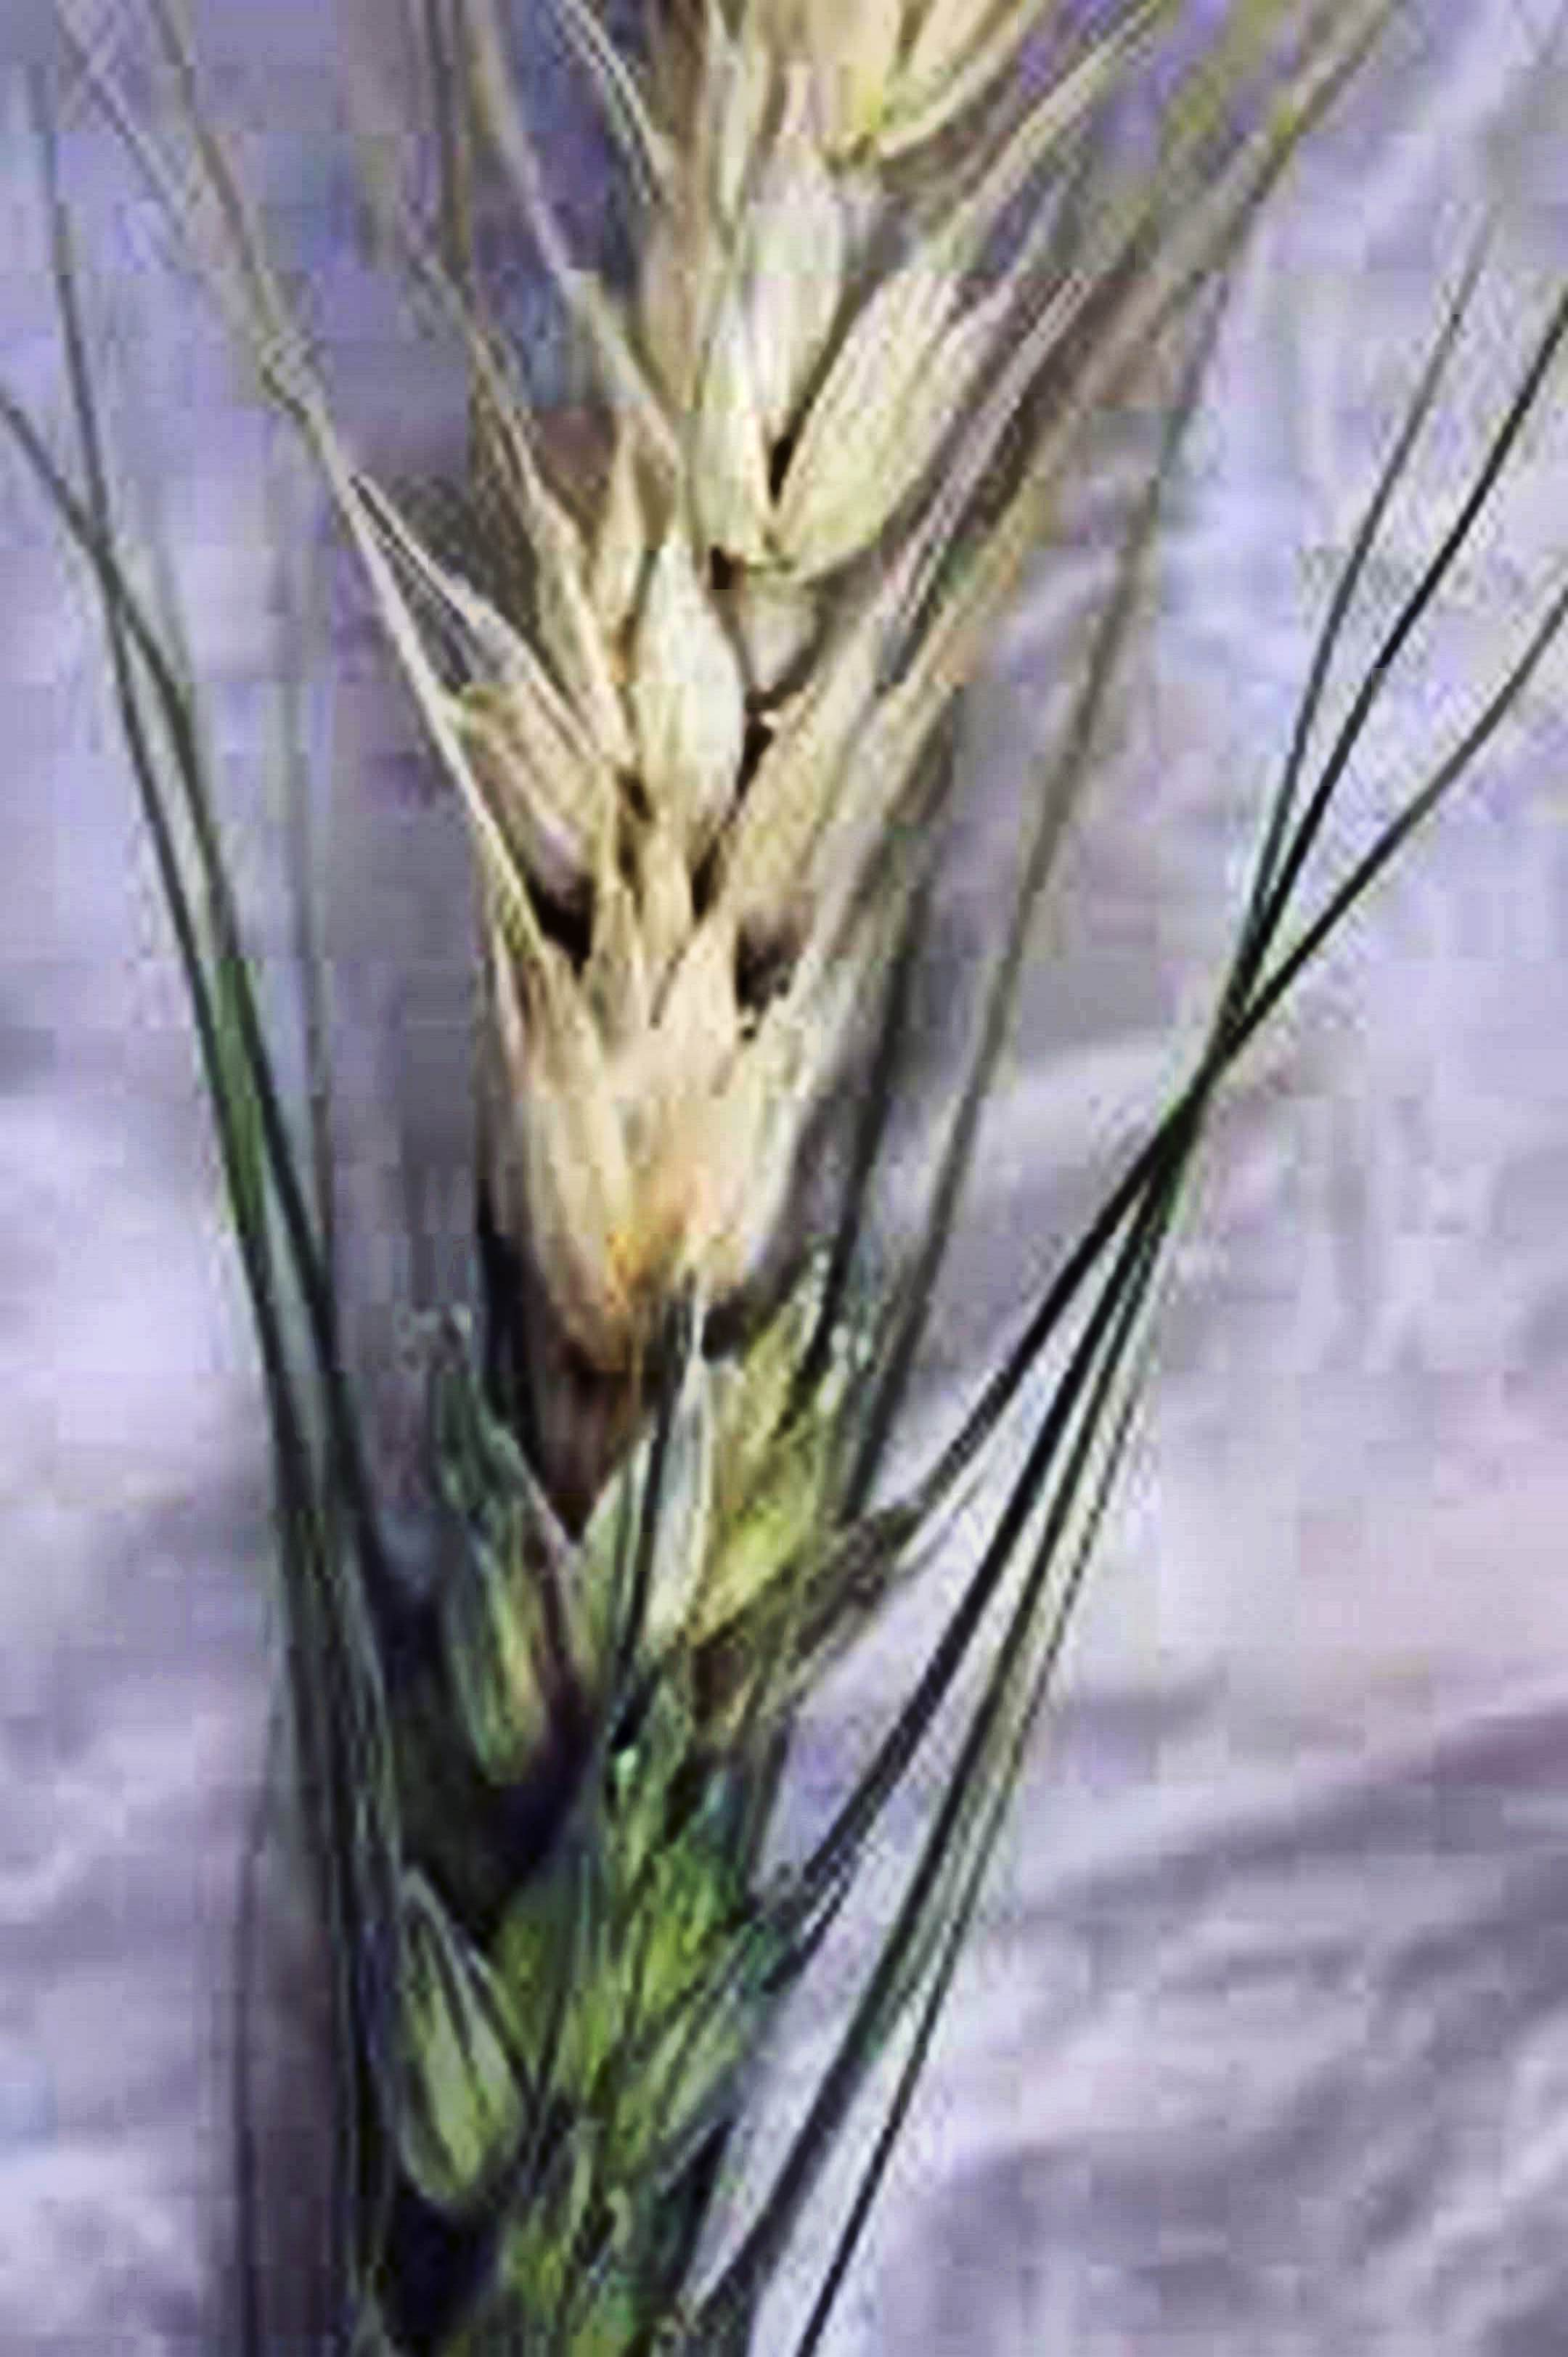Wheat scab: (318, 30, 1199, 2289)
